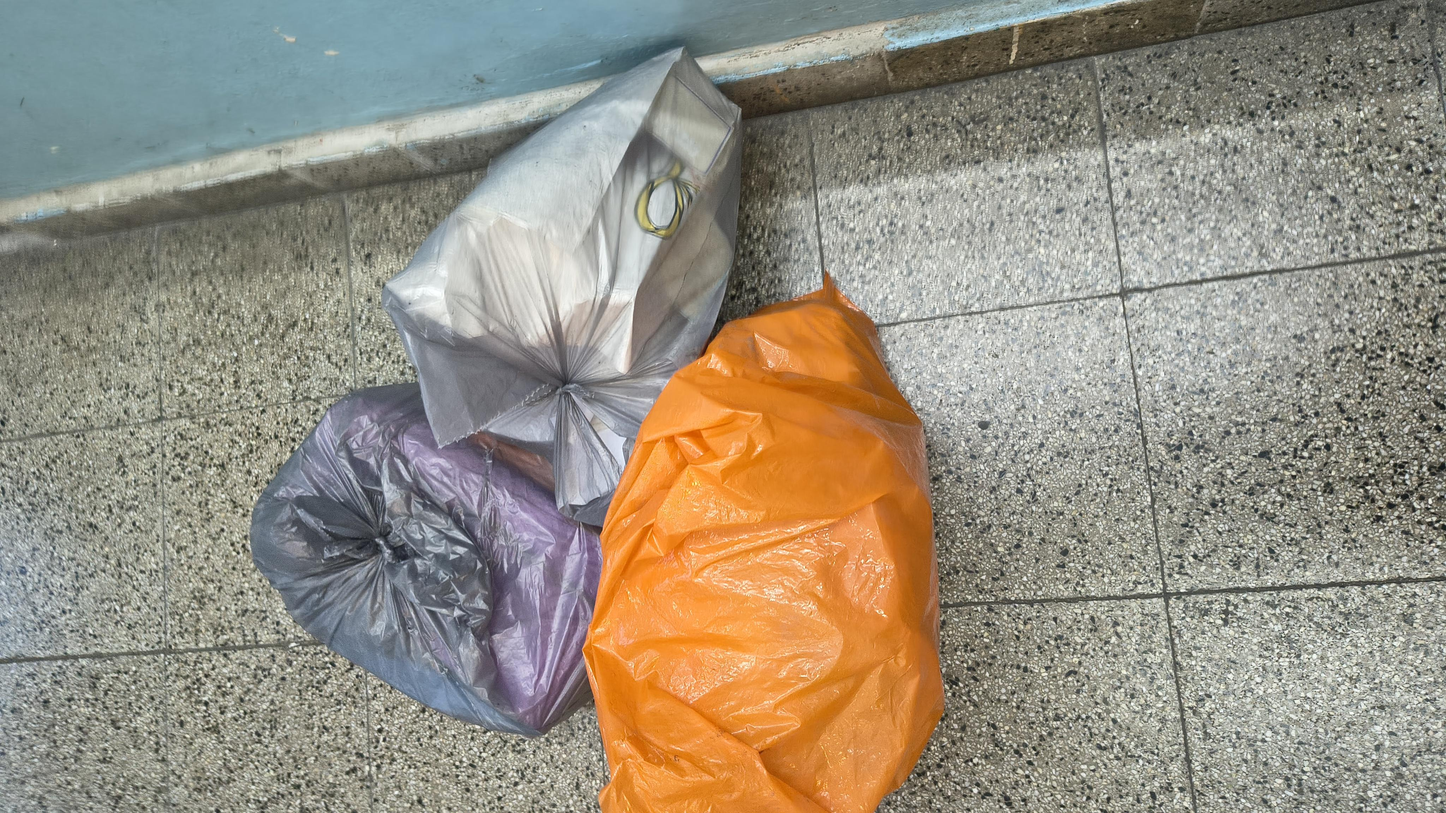Garbage: (0, 328, 973, 558), (527, 200, 1393, 433), (126, 127, 766, 357)
